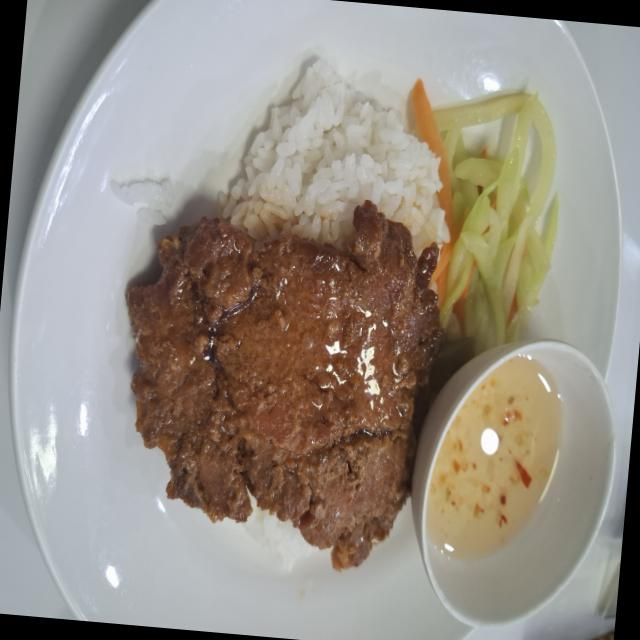com: (230, 60, 448, 248)
nuoc mam: (426, 358, 561, 558)
rau: (437, 94, 558, 349)
suon mieng: (126, 201, 441, 568)
